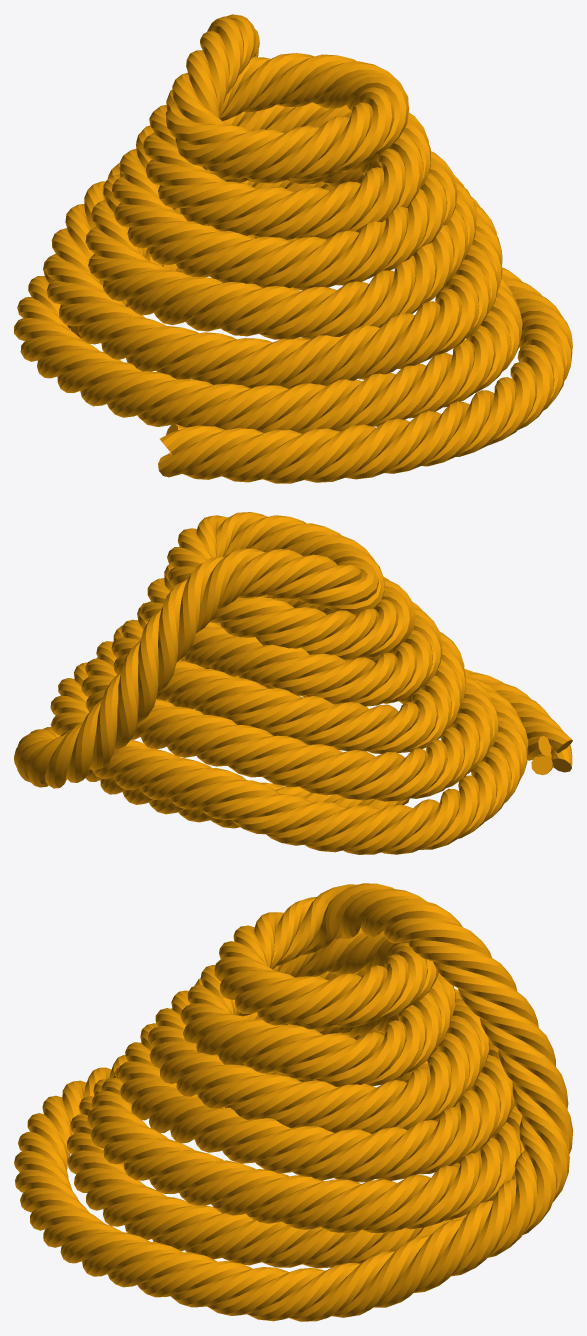
The model's file is Rope_V2.fbx.
The picture shows the model from 3 angles, top to bottom: view 1: azimuth 30°, elevation 25°; view 2: azimuth 150°, elevation 25°; view 3: azimuth 270°, elevation 25°; orthographic projection. The views are drawn at different scales.
Visible parts, largest first — view 1: Rope_Visual; view 2: Rope_Visual; view 3: Rope_Visual.
Part boxes in pixels (x1,y1,x2,y2): Rope_Visual: (14,14,572,483); Rope_Visual: (14,512,572,854); Rope_Visual: (14,883,572,1321).
Size of the model in its own units: 316 by 202 by 327.
